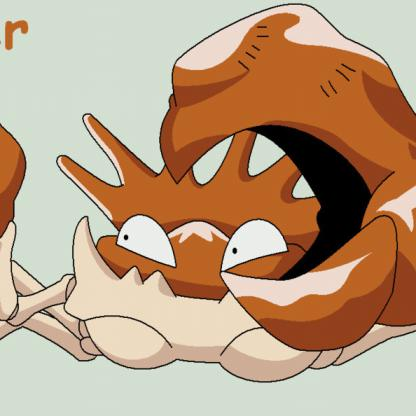Kingler: (1, 16, 416, 384)
